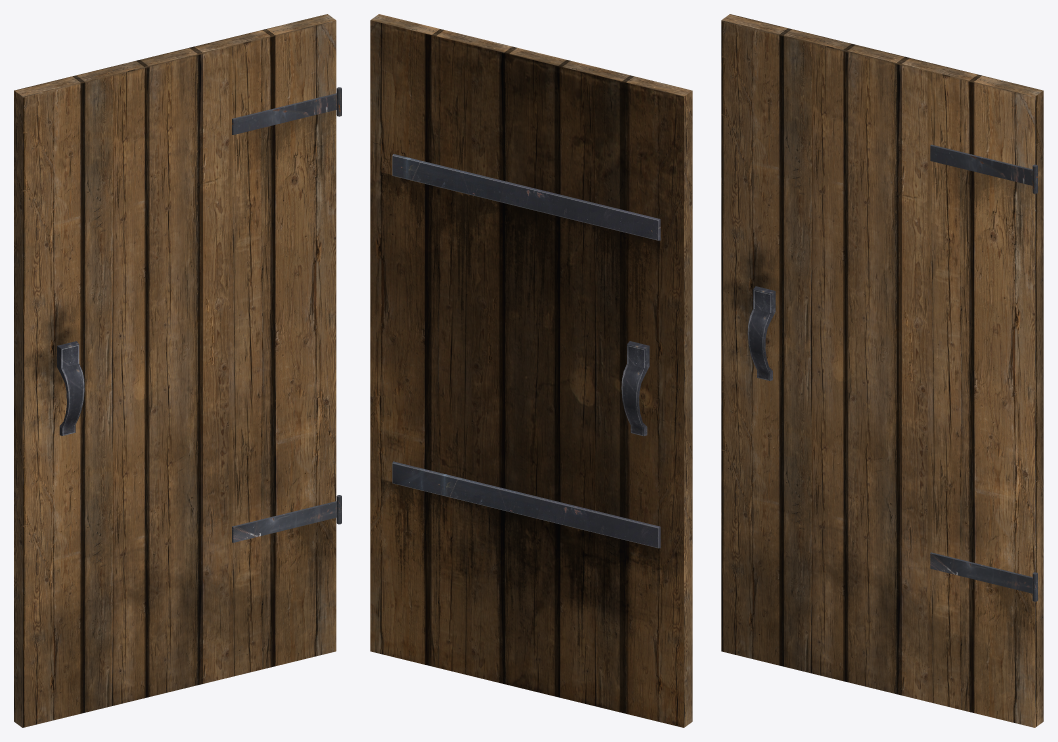
The model's file is door_01_LOD1.FBX.
3 views of the same model, side by side, from view 1: azimuth 30°, elevation 25°; view 2: azimuth 150°, elevation 25°; view 3: azimuth 330°, elevation 25° (orthographic).
Visible parts, largest first — view 1: door_01_LOD1, doorAttach_01_LOD1; view 2: door_01_LOD1; view 3: door_01_LOD1, doorAttach_01_LOD1.
Part boxes in pixels (<box>): door_01_LOD1: <box>14,14,336,727</box>; doorAttach_01_LOD1: <box>232,87,341,542</box>; door_01_LOD1: <box>370,14,692,727</box>; door_01_LOD1: <box>721,14,1043,727</box>; doorAttach_01_LOD1: <box>930,144,1037,601</box>.
Bounding box in the file's own units: 5.78 × 10.98 × 0.8989.
2 materials, 2 textured.
